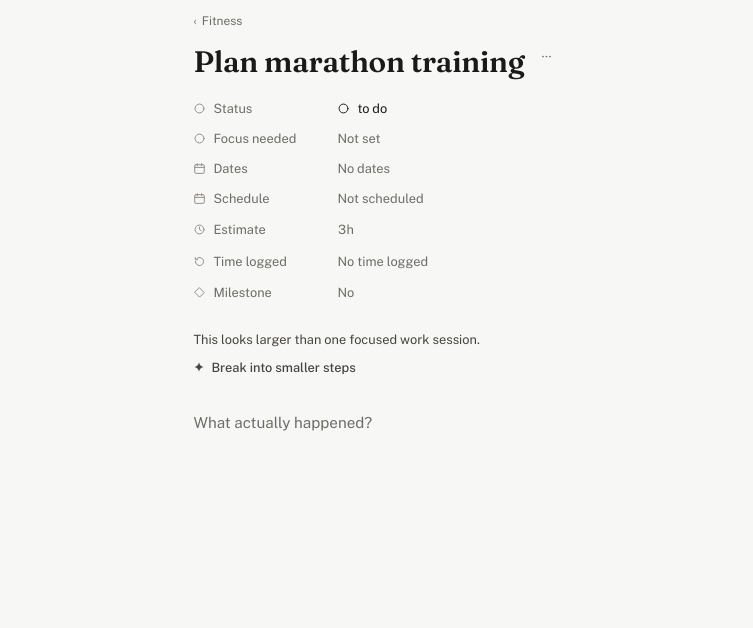
TaskPage › invites an oversized task to break into smaller steps
The image size is (753, 628).
Check: the text "This looks larger than one focused work session." is shown, box [193,332,480,346]
What coordinates should you click on to do the following:
click the button "Break into smaller steps"
I would click on:
 (275, 367)
Its box is [185,353,364,382].
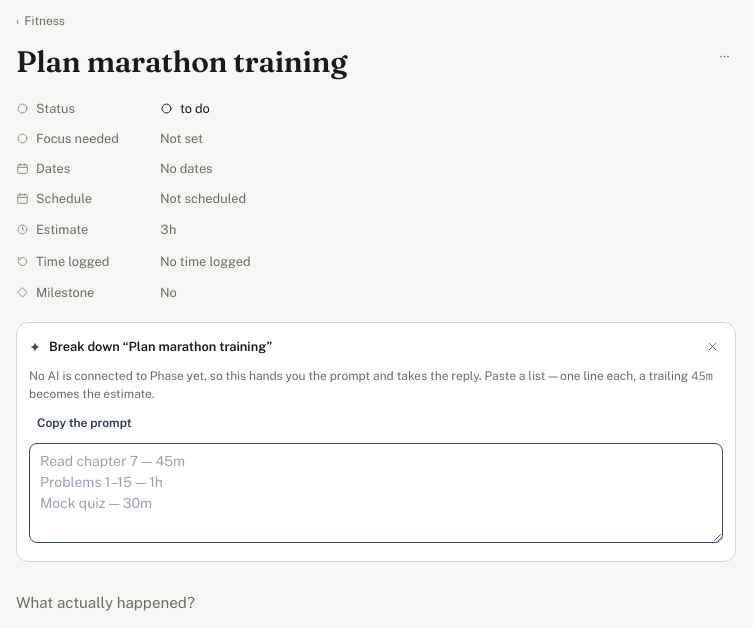
Check: the heading "Break down “Plan marathon training”" is shown, box [49,339,272,354]
